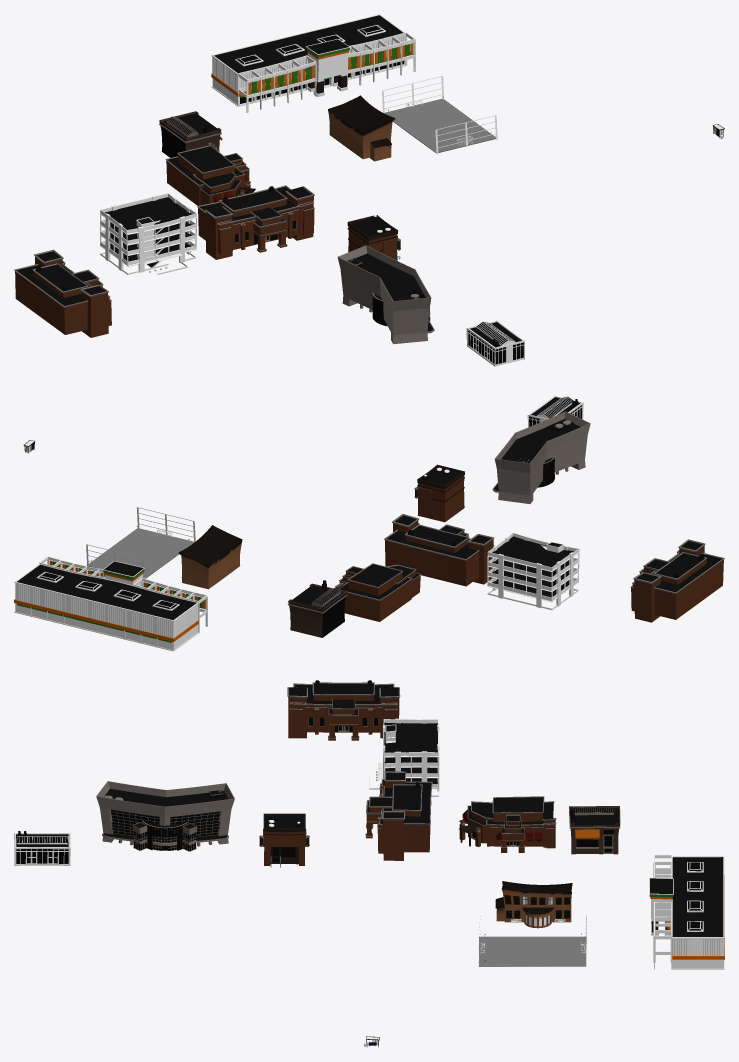
The model's file is buildings.FBX.
3 views of the same model, one above another, from view 1: azimuth 30°, elevation 25°; view 2: azimuth 150°, elevation 25°; view 3: azimuth 270°, elevation 25° (orthographic). The views are drawn at different scales.
Parts seen in each view (by area): view 1: s_set_super_geo_001, s_set_restaurant_b_geo_001, s_set_parking_geo_001, s_set_mall_geo_001, s_set_restaurant_b_geo_002, s_set_restaurant_geo_001, s_set_field_geo_003, s_stadium_trainercomplex_geo_001, s_set_petshop_geo_001, s_set_gym_geo_001, s_set_barbershop_geo_001; view 2: s_set_super_geo_001, s_set_mall_geo_001, s_set_restaurant_b_geo_001, s_set_parking_geo_001, s_set_restaurant_b_geo_002, s_set_restaurant_geo_001, s_stadium_trainercomplex_geo_001, s_set_field_geo_003, s_set_petshop_geo_001, s_set_barbershop_geo_001, s_set_gym_geo_001; view 3: s_set_mall_geo_001, s_set_super_geo_001, s_set_restaurant_b_geo_002, s_set_restaurant_b_geo_001, s_set_restaurant_geo_001, s_set_parking_geo_001, s_set_field_geo_003, s_stadium_trainercomplex_geo_001, s_set_petshop_geo_001, s_set_barbershop_geo_001, s_set_gym_geo_001.
Part boxes in pixels (<box>): s_set_super_geo_001: <box>211,14,415,112</box>; s_set_restaurant_b_geo_001: <box>197,185,314,259</box>; s_set_parking_geo_001: <box>100,193,196,274</box>; s_set_mall_geo_001: <box>337,245,434,344</box>; s_set_restaurant_b_geo_002: <box>14,249,111,337</box>; s_set_restaurant_geo_001: <box>165,142,255,205</box>; s_set_field_geo_003: <box>384,99,495,153</box>; s_stadium_trainercomplex_geo_001: <box>328,95,395,161</box>; s_set_petshop_geo_001: <box>159,111,222,157</box>; s_set_gym_geo_001: <box>466,320,524,366</box>; s_set_barbershop_geo_001: <box>347,214,400,260</box>; s_set_super_geo_001: <box>14,556,207,651</box>; s_set_mall_geo_001: <box>492,411,590,504</box>; s_set_restaurant_b_geo_001: <box>384,514,494,586</box>; s_set_parking_geo_001: <box>487,532,579,609</box>; s_set_restaurant_b_geo_002: <box>630,539,724,622</box>; s_set_restaurant_geo_001: <box>335,563,420,621</box>; s_stadium_trainercomplex_geo_001: <box>178,525,242,589</box>; s_set_field_geo_003: <box>86,528,194,578</box>; s_set_petshop_geo_001: <box>287,580,347,637</box>; s_set_barbershop_geo_001: <box>414,464,464,522</box>; s_set_gym_geo_001: <box>527,395,583,427</box>; s_set_mall_geo_001: <box>96,781,234,851</box>; s_set_super_geo_001: <box>649,855,724,969</box>; s_set_restaurant_b_geo_002: <box>287,680,400,740</box>; s_set_restaurant_b_geo_001: <box>365,771,432,860</box>; s_set_restaurant_geo_001: <box>459,796,556,852</box>; s_set_parking_geo_001: <box>369,718,439,796</box>; s_set_field_geo_003: <box>479,936,586,966</box>; s_stadium_trainercomplex_geo_001: <box>495,881,572,928</box>; s_set_petshop_geo_001: <box>569,806,620,854</box>; s_set_barbershop_geo_001: <box>259,813,309,867</box>; s_set_gym_geo_001: <box>14,831,70,865</box>.
Bounding box in the file's own units: 30352 × 2246 × 27019.
